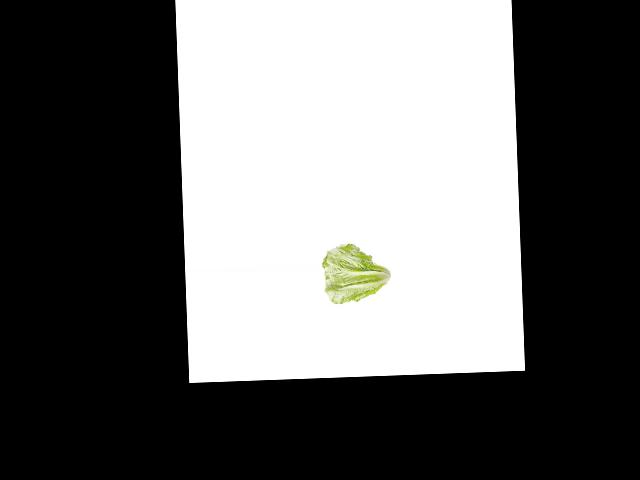lettuce: (320, 239, 395, 302)
